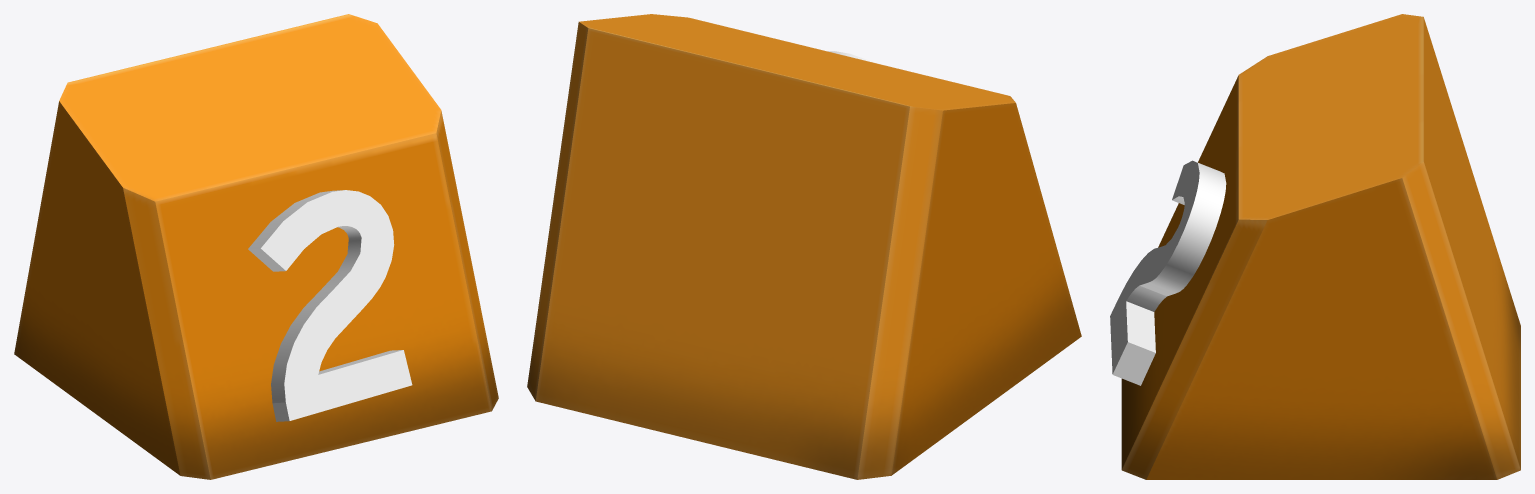
File: hole2Mesh.FBX
The picture shows the model from 3 angles, left to right: view 1: azimuth 30°, elevation 25°; view 2: azimuth 150°, elevation 25°; view 3: azimuth 270°, elevation 25°; orthographic projection. The views are drawn at different scales.
Parts seen in each view (by area): view 1: holeNumber2; view 2: holeNumber2; view 3: holeNumber2.
Part boxes in pixels (x1=…): holeNumber2: x1=14, y1=14, x2=498, y2=479; holeNumber2: x1=527, y1=14, x2=1081, y2=479; holeNumber2: x1=1110, y1=14, x2=1520, y2=479.
Size of the model in its own units: 2026 by 1779 by 2145.
